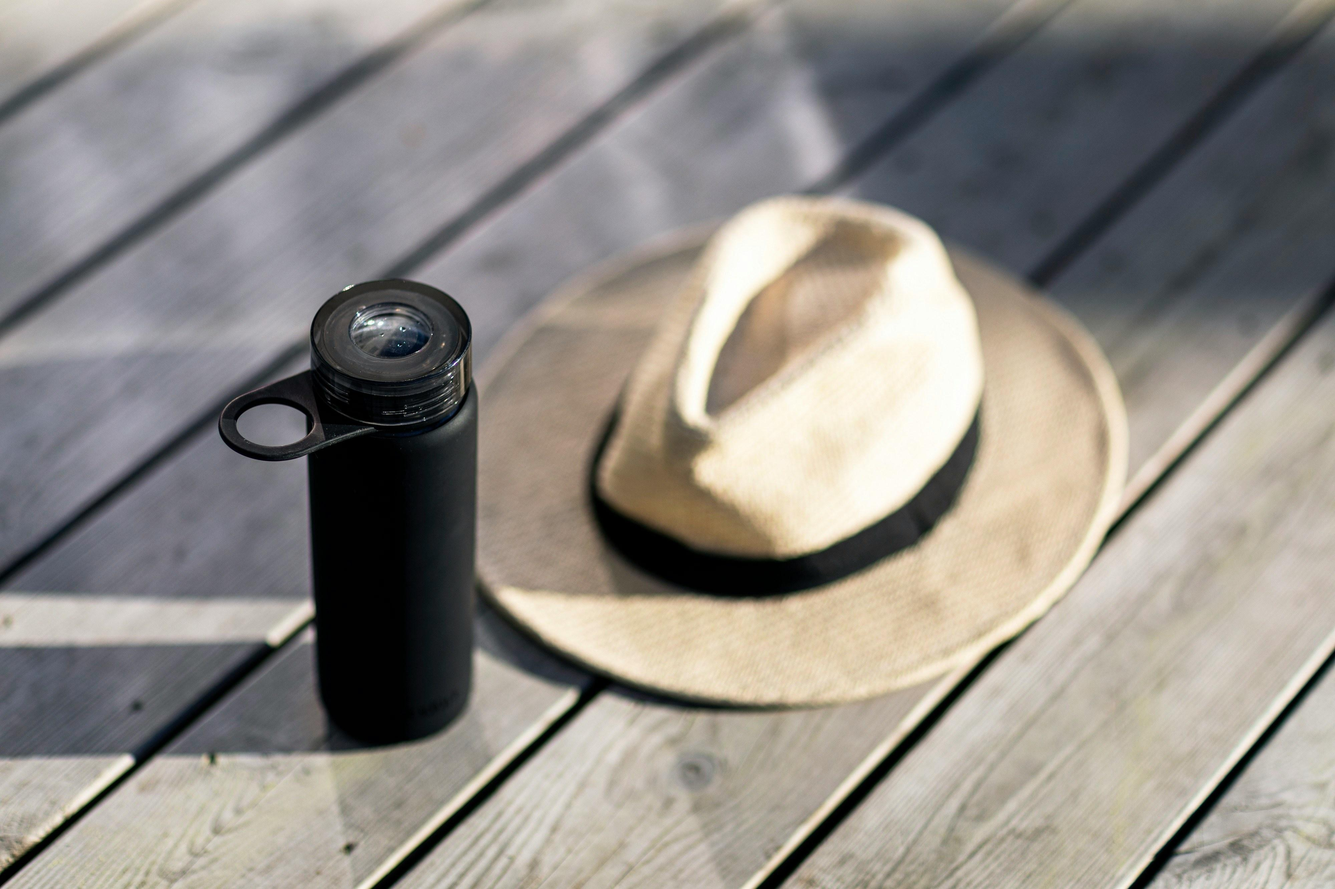Bottle-Detection: (199, 248, 534, 794)
